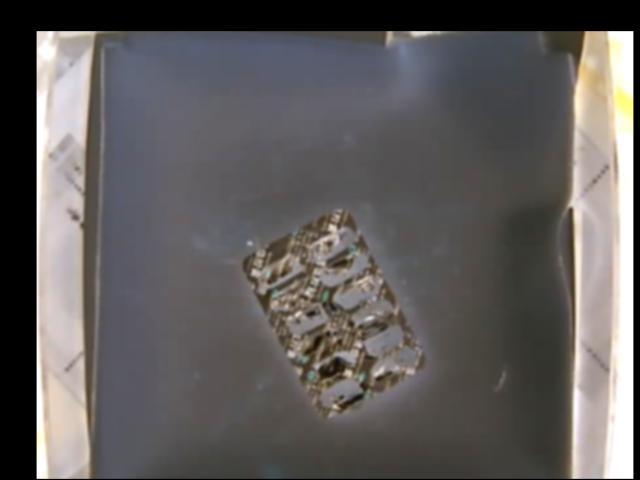Medicine: (239, 209, 424, 416)
